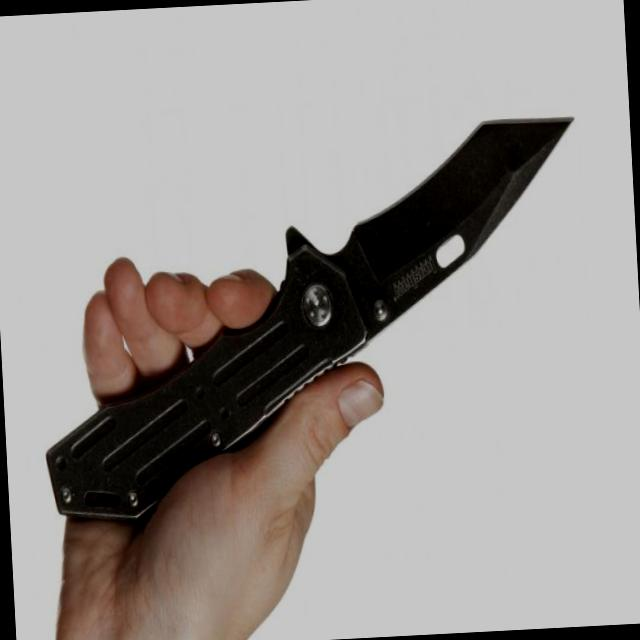knife: (175, 89, 608, 482)
